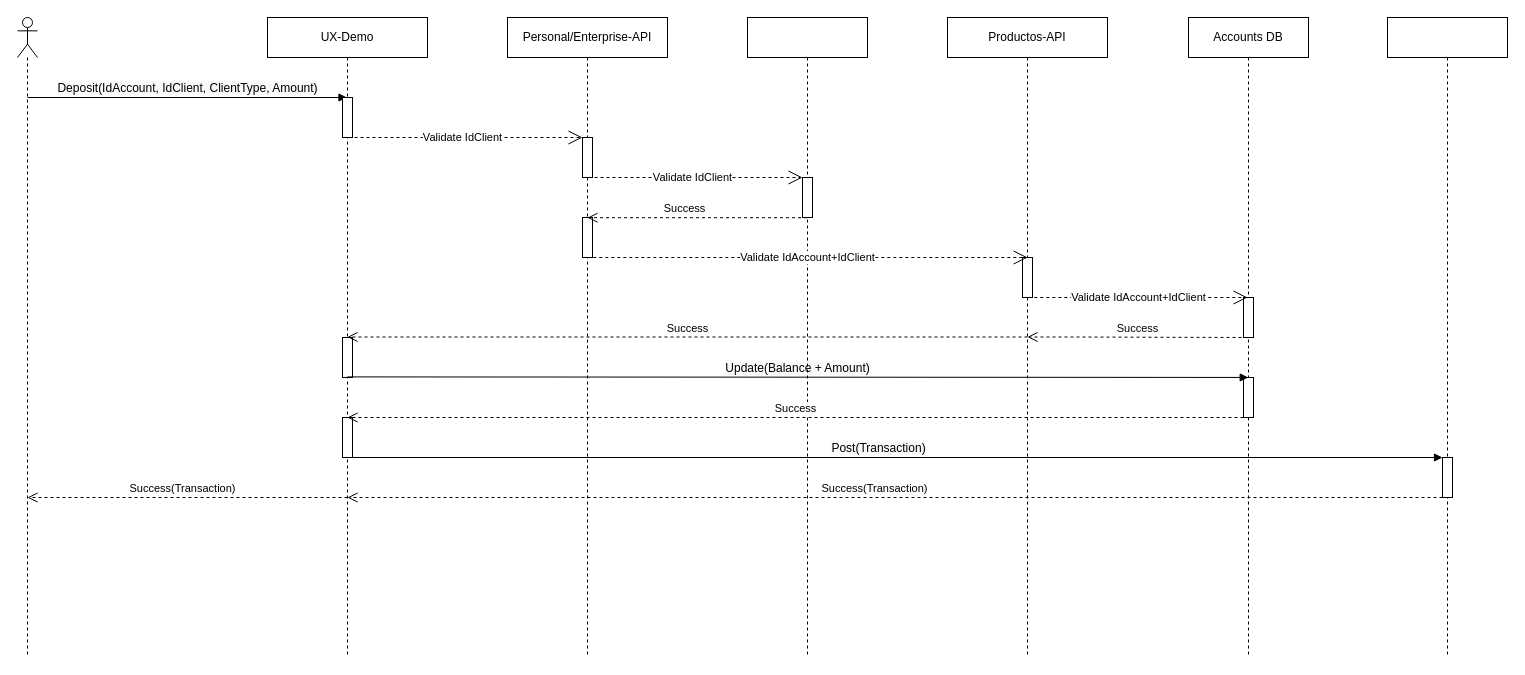
Some shapes in this 1525 by 675 pixel diagram are drawn without their labels. The box of each missing label's shape, as (x1, y1, x2, y2) in pixels:
Personal/Enterprise DB: (746, 16, 868, 658)
Transaction DB: (1386, 16, 1508, 658)
